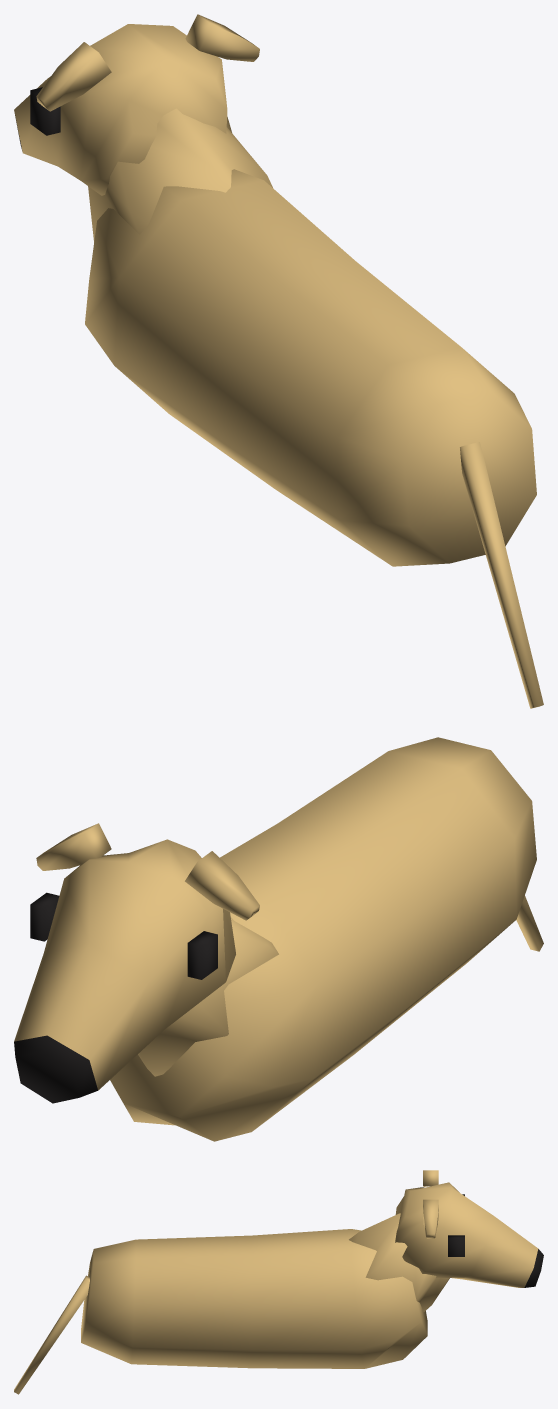
The model's file is animal_labrador.obj.
3 renders of one model, top to bottom at view 1: azimuth 30°, elevation 25°; view 2: azimuth 150°, elevation 25°; view 3: azimuth 270°, elevation 25°, orthographic. The views are drawn at different scales.
Parts seen in each view (by area): view 1: animal_labrador_component_01_stage_1, animal_labrador_component_03_stage_1, animal_labrador_component_02_stage_1, animal_labrador_component_08_stage_1, animal_labrador_component_06_stage_1, animal_labrador_component_07_stage_1, animal_labrador_component_04_stage_1; view 2: animal_labrador_component_01_stage_1, animal_labrador_component_03_stage_1, animal_labrador_component_02_stage_1, animal_labrador_component_06_stage_1, animal_labrador_component_07_stage_1, animal_labrador_component_04_stage_1, animal_labrador_component_05_stage_1, animal_labrador_component_08_stage_1; view 3: animal_labrador_component_01_stage_1, animal_labrador_component_03_stage_1, animal_labrador_component_02_stage_1, animal_labrador_component_08_stage_1, animal_labrador_component_07_stage_1, animal_labrador_component_05_stage_1.
Part boxes in pixels (x1=…): animal_labrador_component_01_stage_1: x1=85, y1=169, x2=536, y2=566; animal_labrador_component_03_stage_1: x1=14, y1=24, x2=231, y2=195; animal_labrador_component_02_stage_1: x1=88, y1=108, x2=272, y2=242; animal_labrador_component_08_stage_1: x1=460, y1=442, x2=543, y2=708; animal_labrador_component_06_stage_1: x1=36, y1=42, x2=111, y2=111; animal_labrador_component_07_stage_1: x1=185, y1=14, x2=259, y2=61; animal_labrador_component_04_stage_1: x1=30, y1=87, x2=60, y2=135; animal_labrador_component_01_stage_1: x1=110, y1=737, x2=536, y2=1141; animal_labrador_component_03_stage_1: x1=14, y1=839, x2=235, y2=1103; animal_labrador_component_02_stage_1: x1=138, y1=917, x2=278, y2=1076; animal_labrador_component_06_stage_1: x1=185, y1=851, x2=259, y2=920; animal_labrador_component_07_stage_1: x1=36, y1=823, x2=111, y2=870; animal_labrador_component_04_stage_1: x1=187, y1=931, x2=217, y2=979; animal_labrador_component_05_stage_1: x1=30, y1=892, x2=59, y2=941; animal_labrador_component_08_stage_1: x1=516, y1=895, x2=543, y2=951; animal_labrador_component_01_stage_1: x1=81, y1=1229, x2=427, y2=1368; animal_labrador_component_03_stage_1: x1=395, y1=1182, x2=543, y2=1287; animal_labrador_component_02_stage_1: x1=349, y1=1213, x2=449, y2=1311; animal_labrador_component_08_stage_1: x1=14, y1=1275, x2=89, y2=1394; animal_labrador_component_07_stage_1: x1=423, y1=1199, x2=438, y2=1238; animal_labrador_component_05_stage_1: x1=448, y1=1235, x2=464, y2=1256.
Size of the model in its own units: 0.2742 by 0.474 by 1.09.
